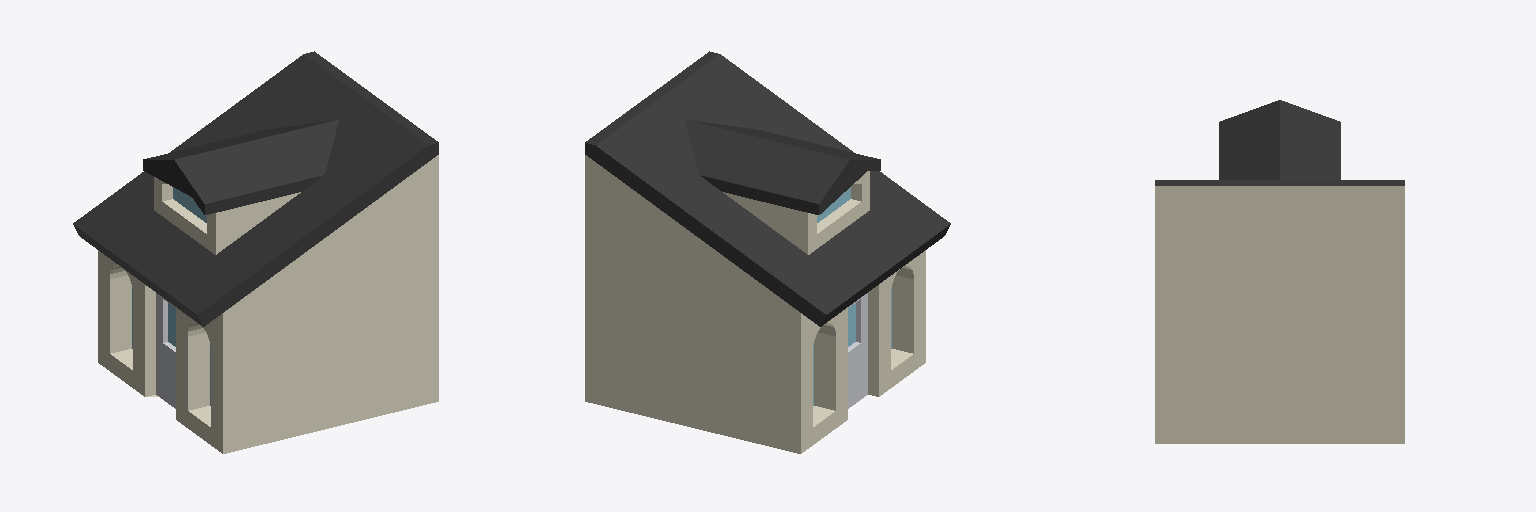
File: SmallHouse1.obj
3 views of the same model, side by side, from view 1: azimuth 30°, elevation 25°; view 2: azimuth 150°, elevation 25°; view 3: azimuth 270°, elevation 25° (orthographic).
Parts seen in each view (by area): view 1: Mesh1_Group1_Model.452_Mesh1_Group1_Model.469; view 2: Mesh1_Group1_Model.452_Mesh1_Group1_Model.469; view 3: Mesh1_Group1_Model.452_Mesh1_Group1_Model.469.
Boxes of the visible parts, x1,y1,x2,y2 form: Mesh1_Group1_Model.452_Mesh1_Group1_Model.469: [73, 51, 438, 453]; Mesh1_Group1_Model.452_Mesh1_Group1_Model.469: [585, 51, 950, 453]; Mesh1_Group1_Model.452_Mesh1_Group1_Model.469: [1155, 100, 1404, 443].
Size of the model in its own units: 2.18 by 2.23 by 1.95.